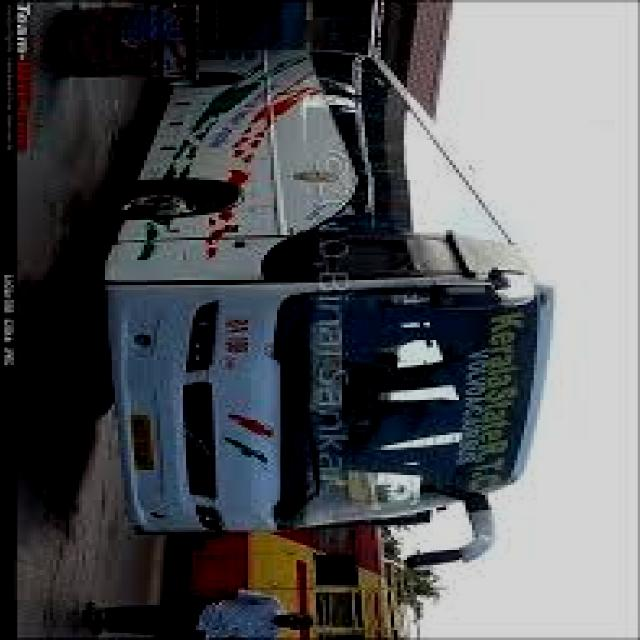bus: (84, 49, 607, 575)
